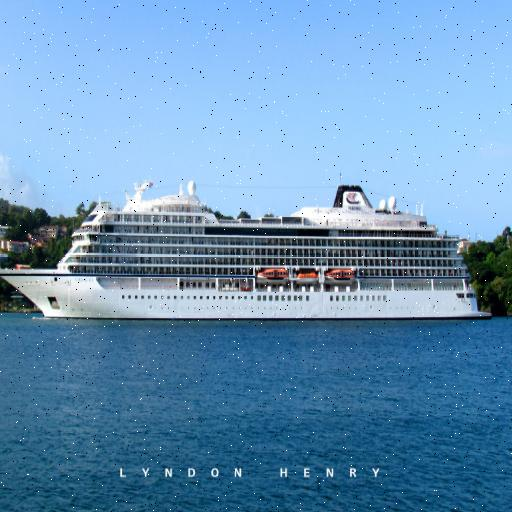cruises: (1, 175, 496, 326)
